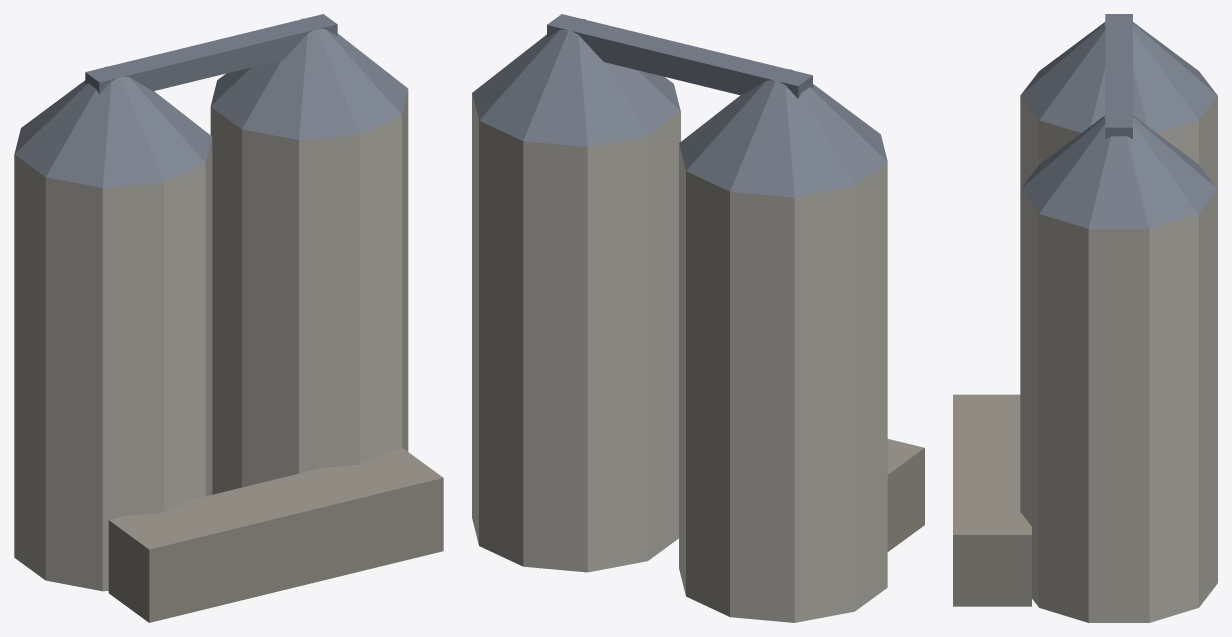
Rendered from silo.glb.
The picture shows the model from 3 angles, left to right: view 1: azimuth 30°, elevation 25°; view 2: azimuth 150°, elevation 25°; view 3: azimuth 270°, elevation 25°; orthographic projection. The views are drawn at different scales.
Visible parts, largest first — view 1: silo; view 2: silo; view 3: silo.
Part boxes in pixels (bbox=[...]): silo: bbox=[14, 14, 443, 622]; silo: bbox=[472, 14, 924, 622]; silo: bbox=[953, 14, 1217, 622].
Size of the model in its own units: 5.18 by 6.5 by 3.35.
